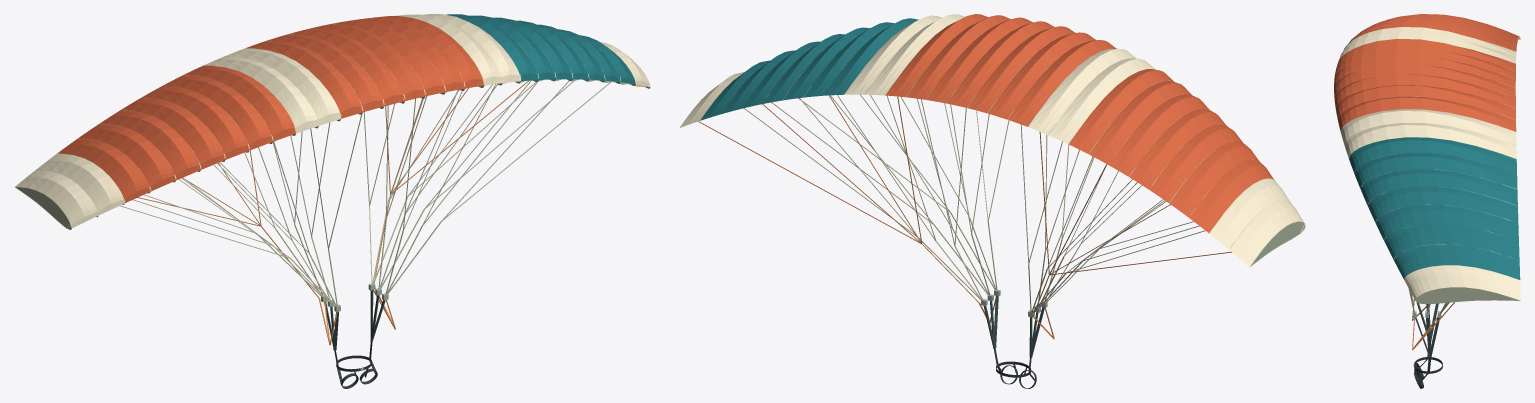
The model's file is parakite.meshopt.glb.
The picture shows the model from 3 angles, left to right: view 1: azimuth 30°, elevation 25°; view 2: azimuth 150°, elevation 25°; view 3: azimuth 270°, elevation 25°; orthographic projection. The views are drawn at different scales.
Visible parts, largest first — view 1: parakite; view 2: parakite; view 3: parakite.
Part boxes in pixels (box(x1,y1,x2,y2)): parakite: box(15, 14, 650, 388); parakite: box(680, 14, 1305, 388); parakite: box(1334, 14, 1520, 388).
Bounding box in the file's own units: 8.51 × 4.93 × 2.57.
